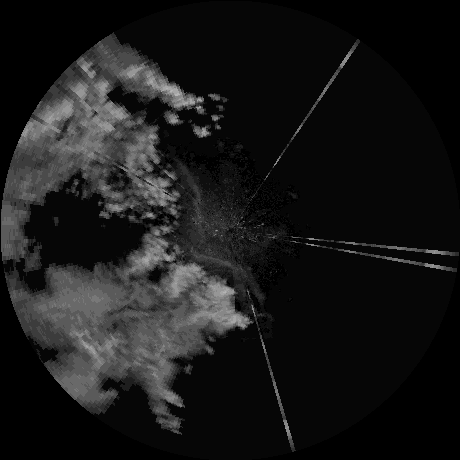frontgust: (182, 238, 265, 310), (173, 151, 207, 241)
